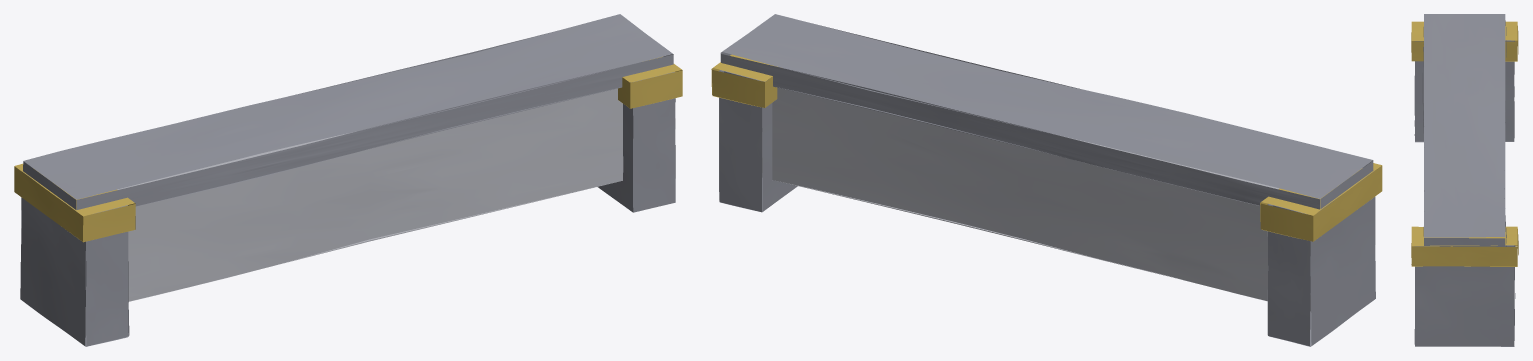
The model's file is beam.glb.
The picture shows the model from 3 angles, left to right: view 1: azimuth 30°, elevation 25°; view 2: azimuth 150°, elevation 25°; view 3: azimuth 270°, elevation 25°; orthographic projection. The views are drawn at different scales.
Visible parts, largest first — view 1: PangBeamBody; view 2: PangBeamBody; view 3: PangBeamBody.
Part boxes in pixels (box(x1,y1,x2,y2)): PangBeamBody: box(14, 14, 682, 346); PangBeamBody: box(711, 14, 1382, 346); PangBeamBody: box(1411, 14, 1518, 346).
Bounding box in the file's own units: 4.83 × 1.12 × 0.9736.
